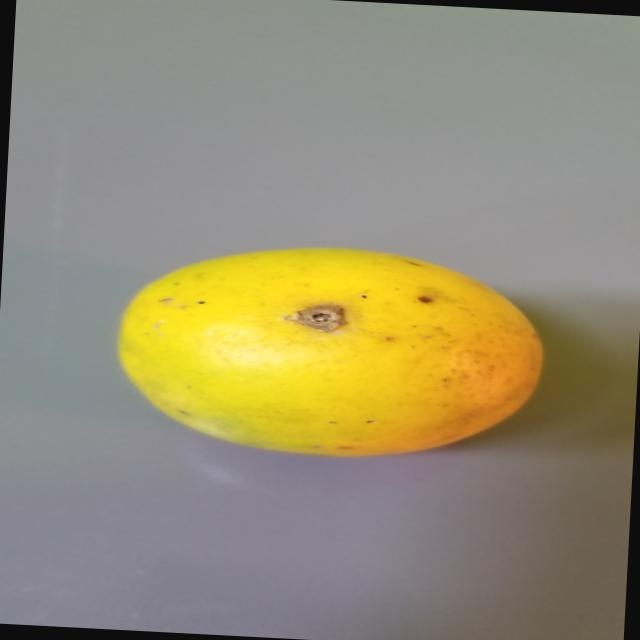agrume: (97, 225, 559, 479)
